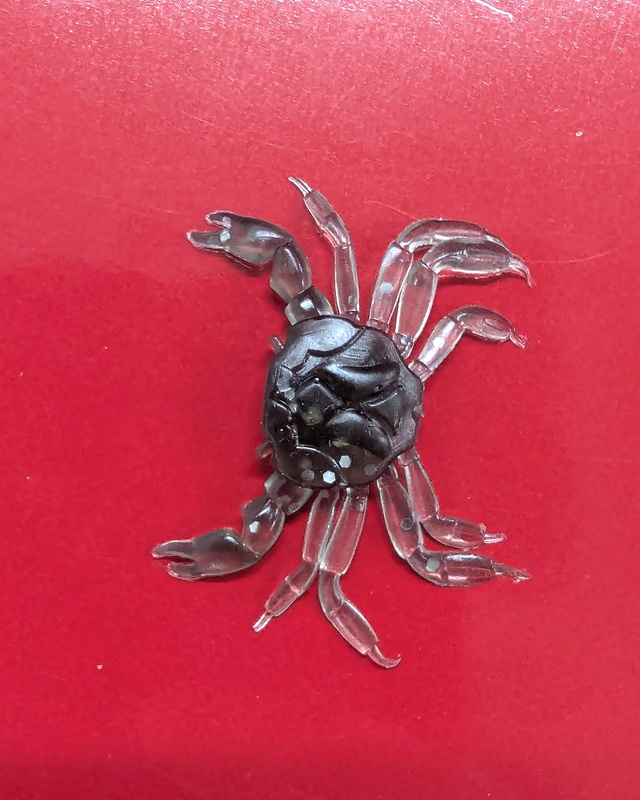crab1: (150, 174, 536, 673)
